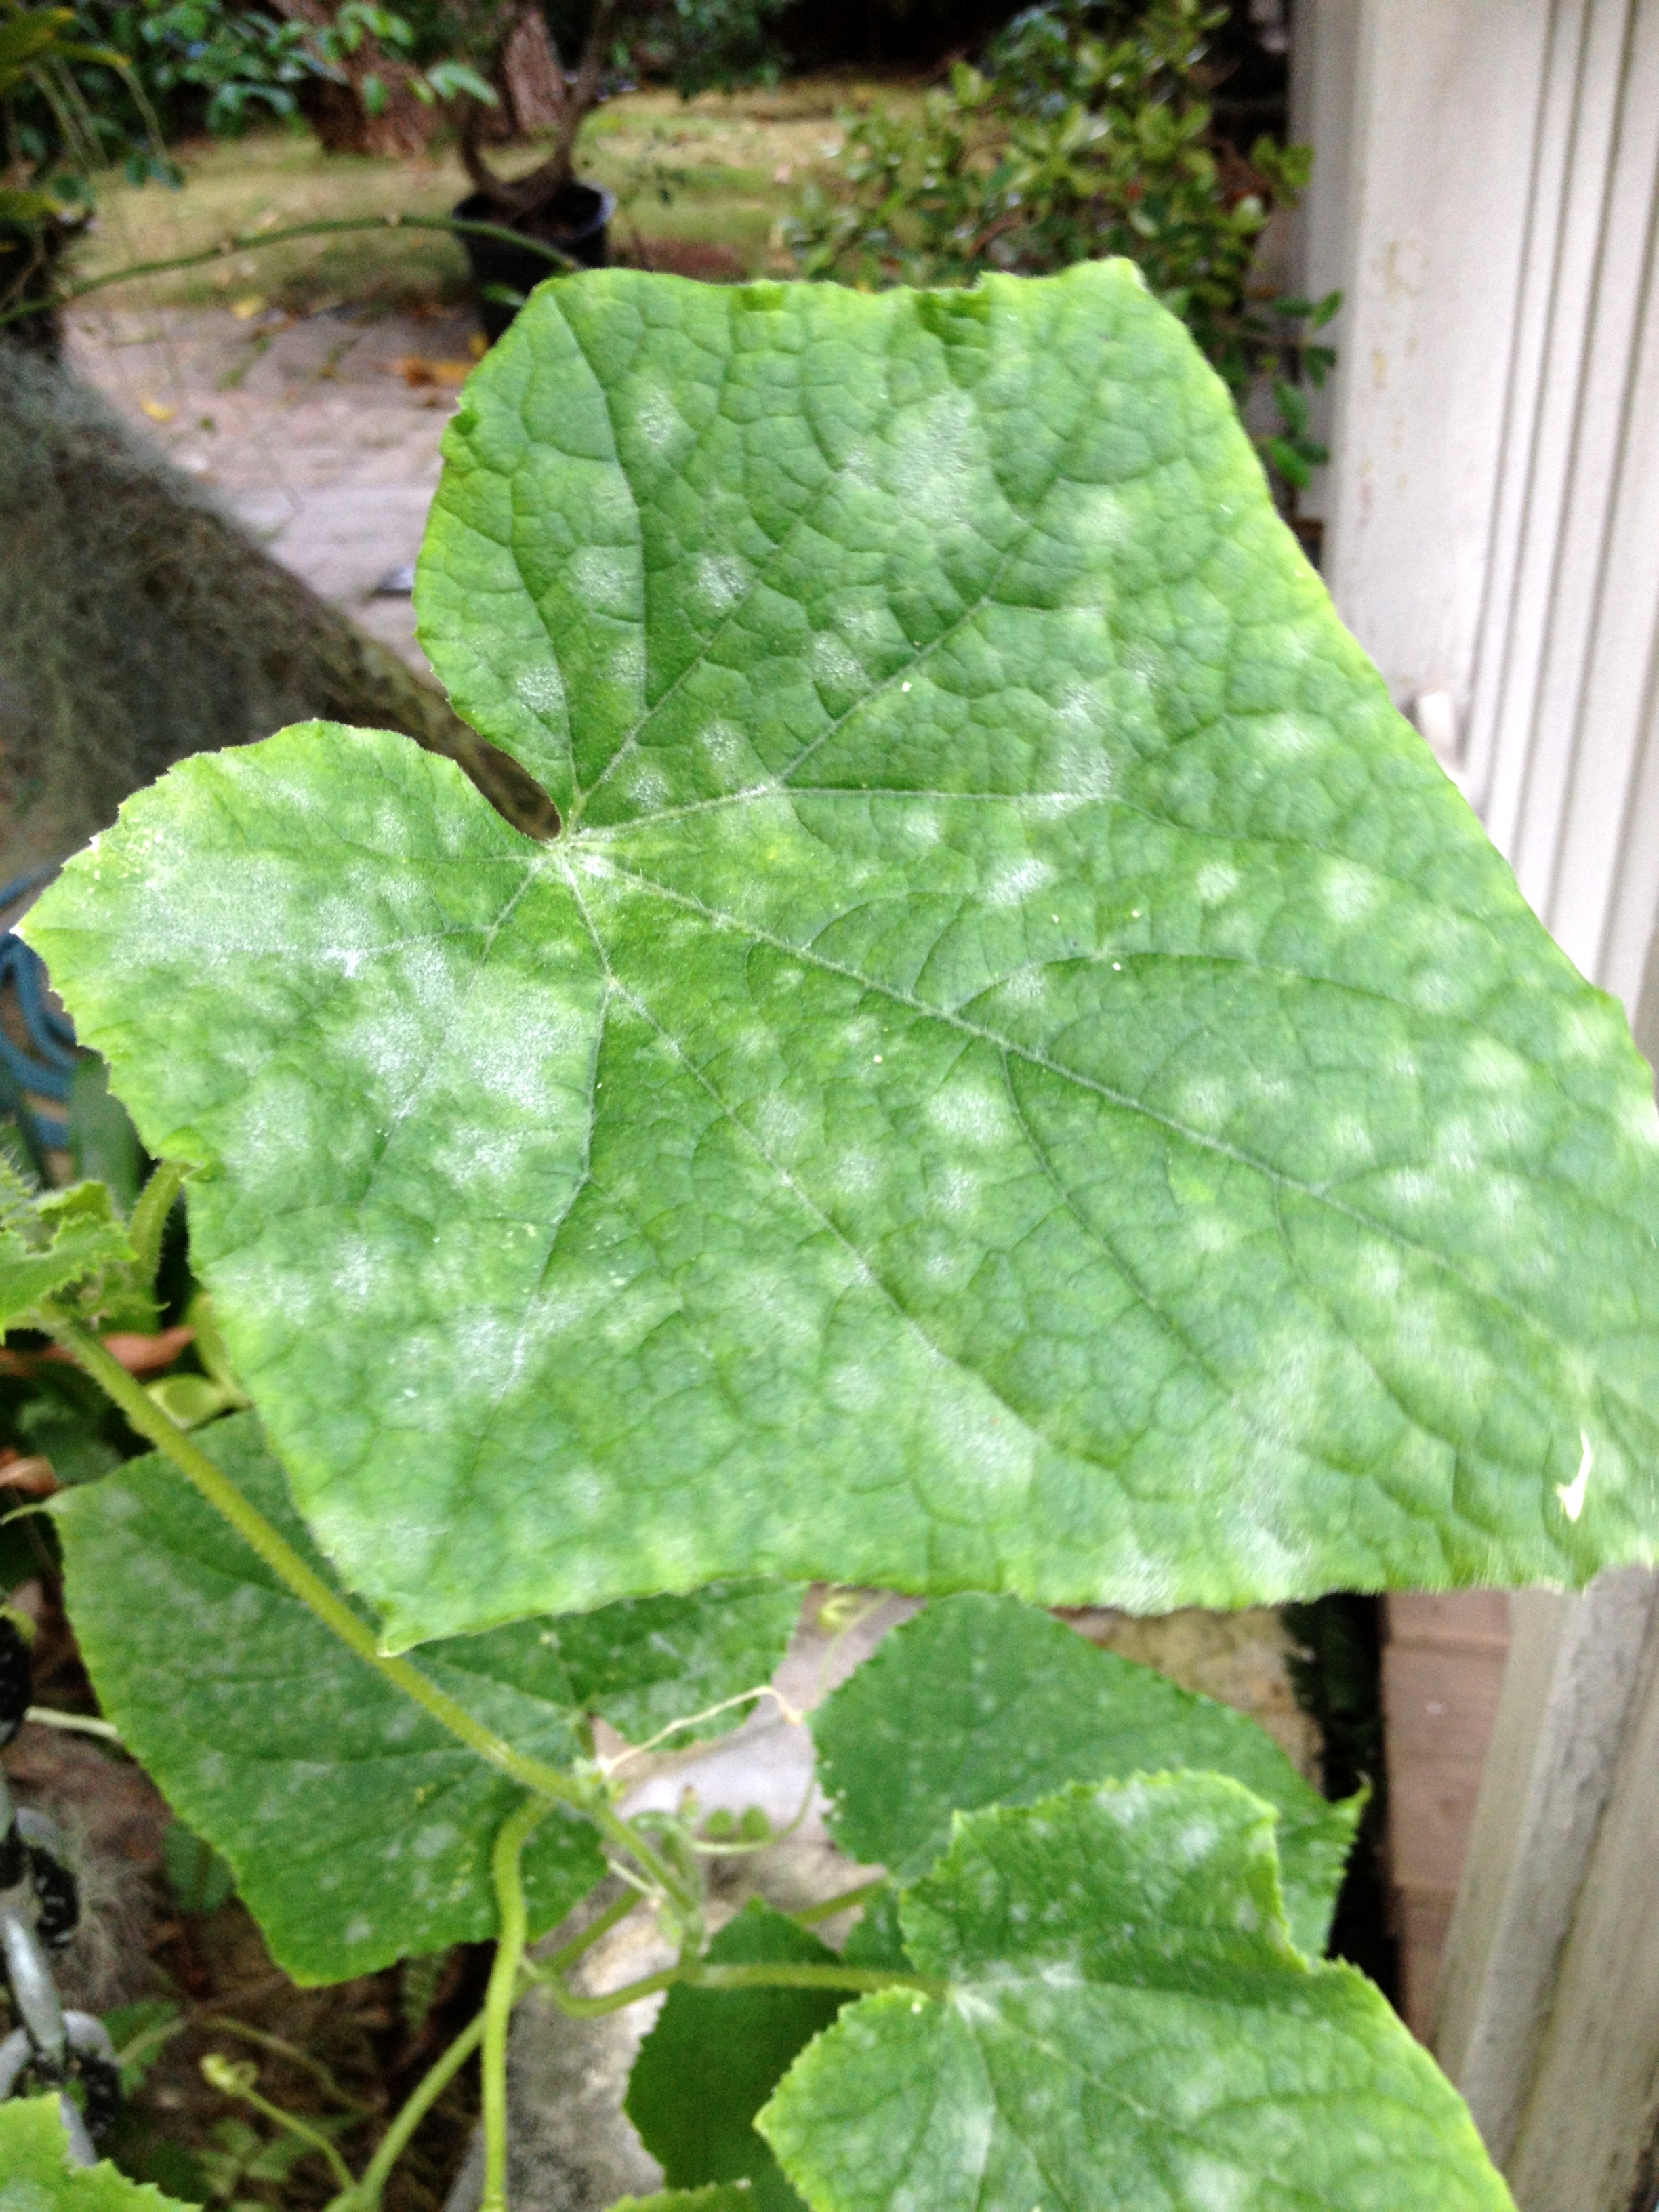Cucumber_PowderyMildew: (125, 291, 1659, 1648)
